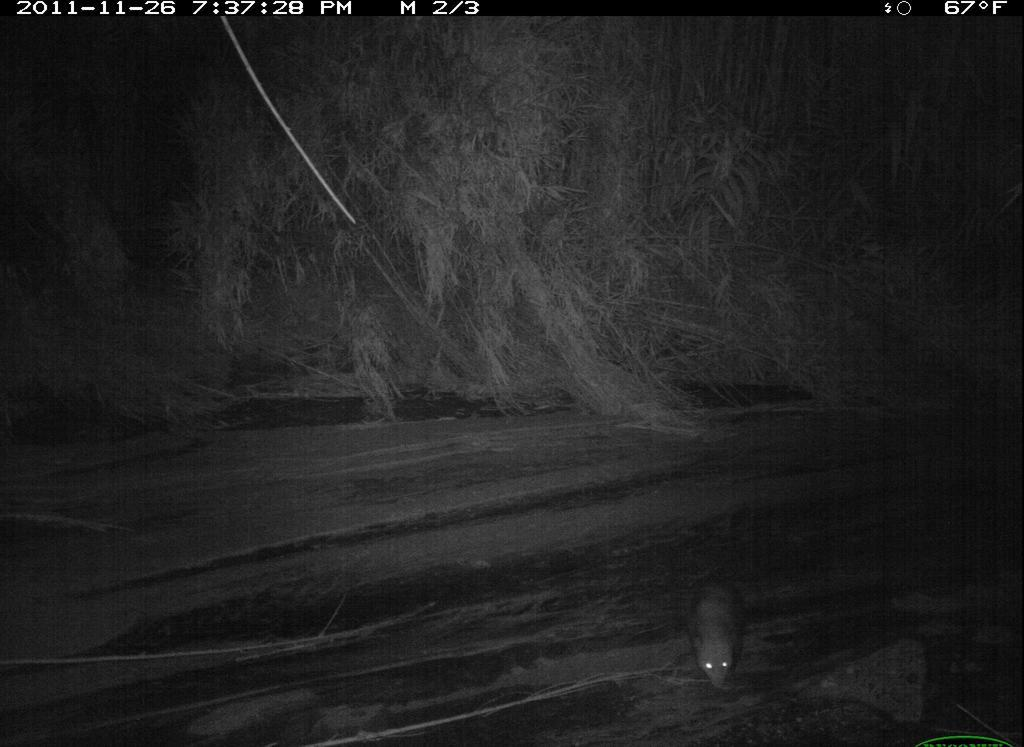opossum: (681, 564, 756, 697)
